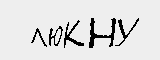І: (17, 19, 29, 36)
З: (41, 14, 59, 34)
М: (59, 11, 87, 29)
П: (119, 13, 144, 37)
С: (27, 16, 43, 38)
Ю: (87, 10, 120, 32)
